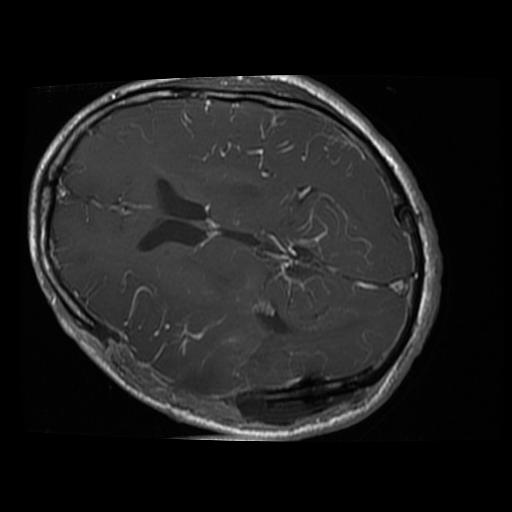glioma: (233, 332, 374, 426)
